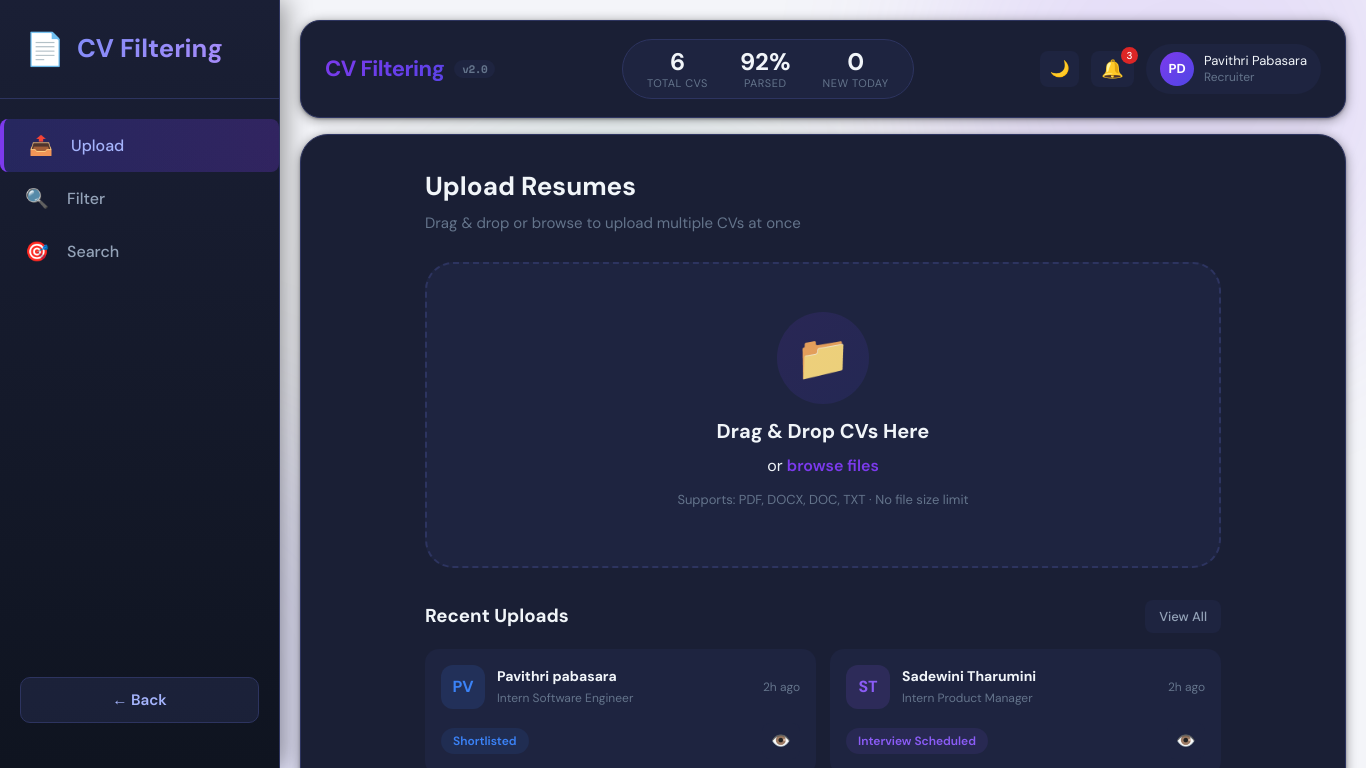
Scenario: CVFiltering › shows search suggestions and allows selecting one
Click the button "🎯 Search" at (93, 252), box [0, 225, 279, 278]
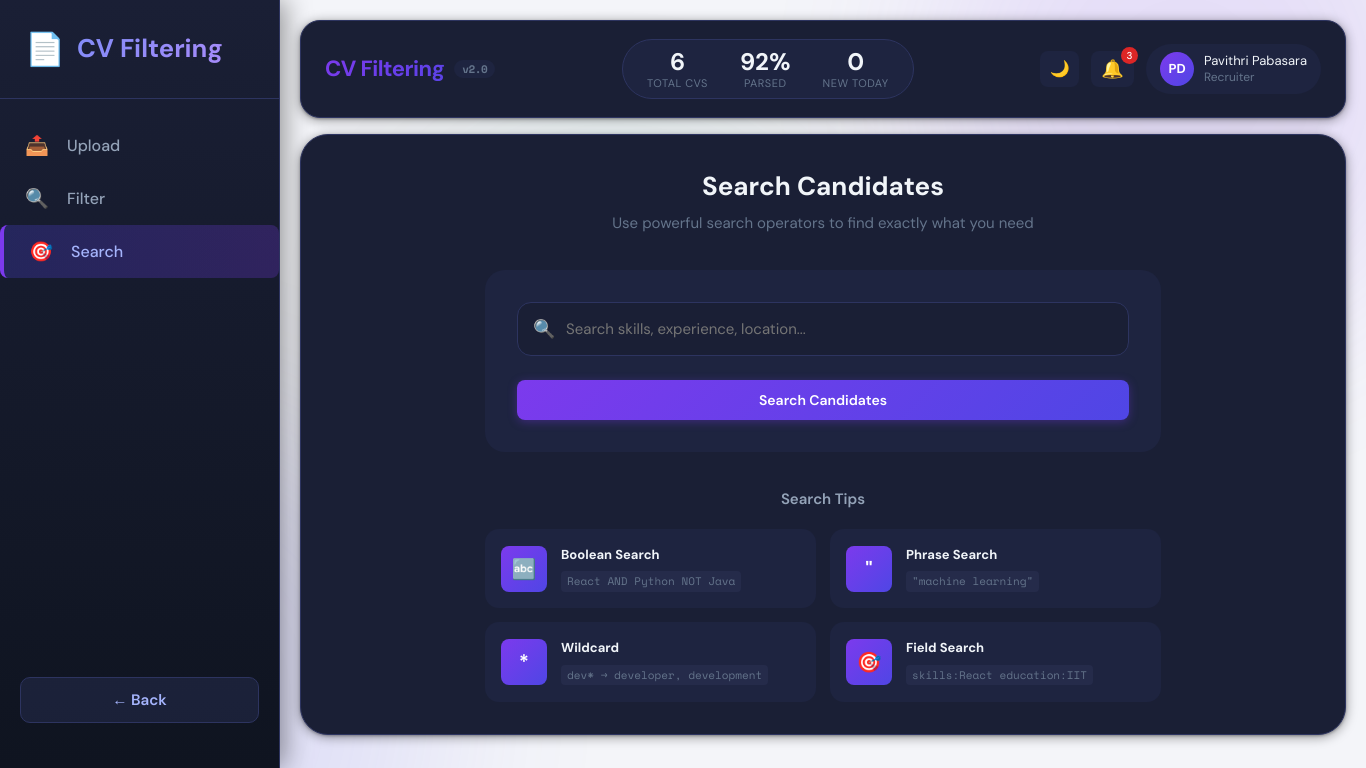
Type "Re" into the field with placeholder "Search skills, experience, location..." at (823, 330), box [517, 302, 1129, 356]
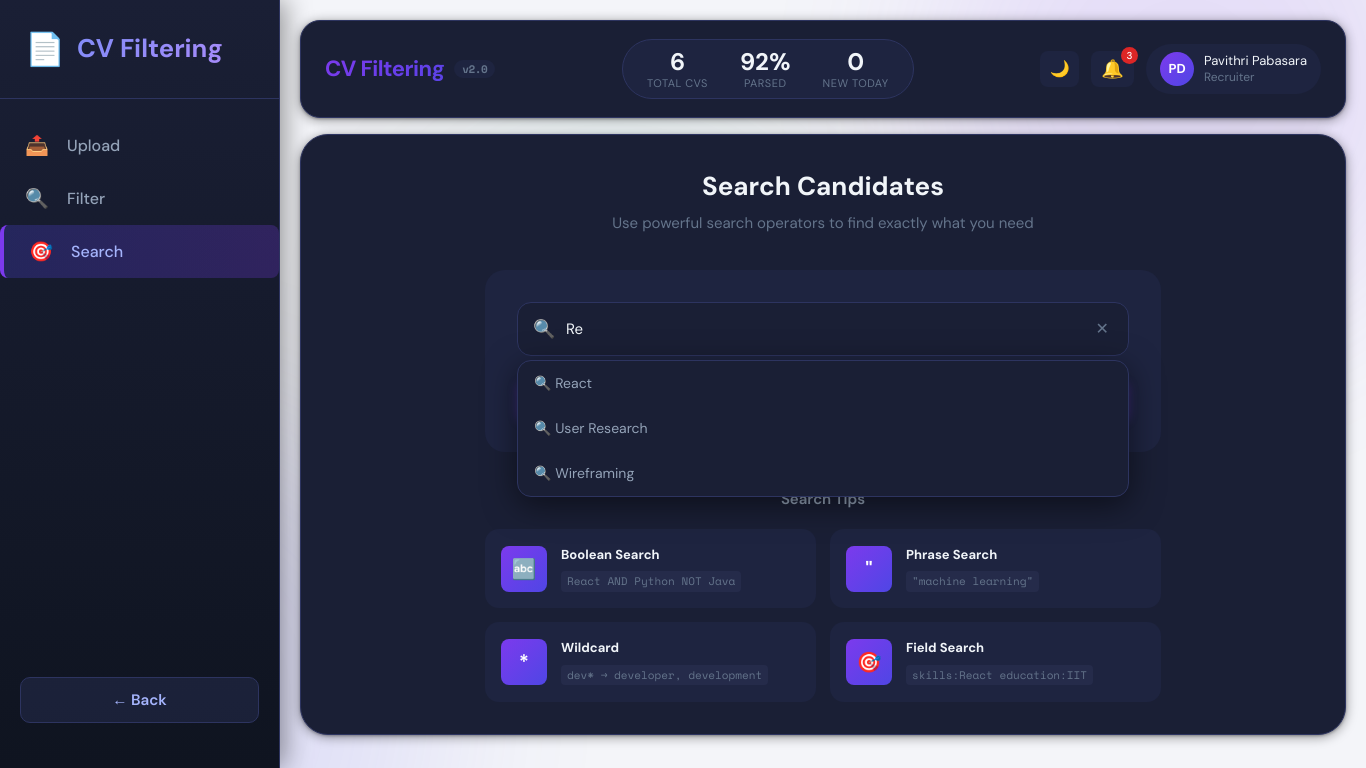
Click the text "🔍 React" at (563, 384), box [534, 374, 592, 392]
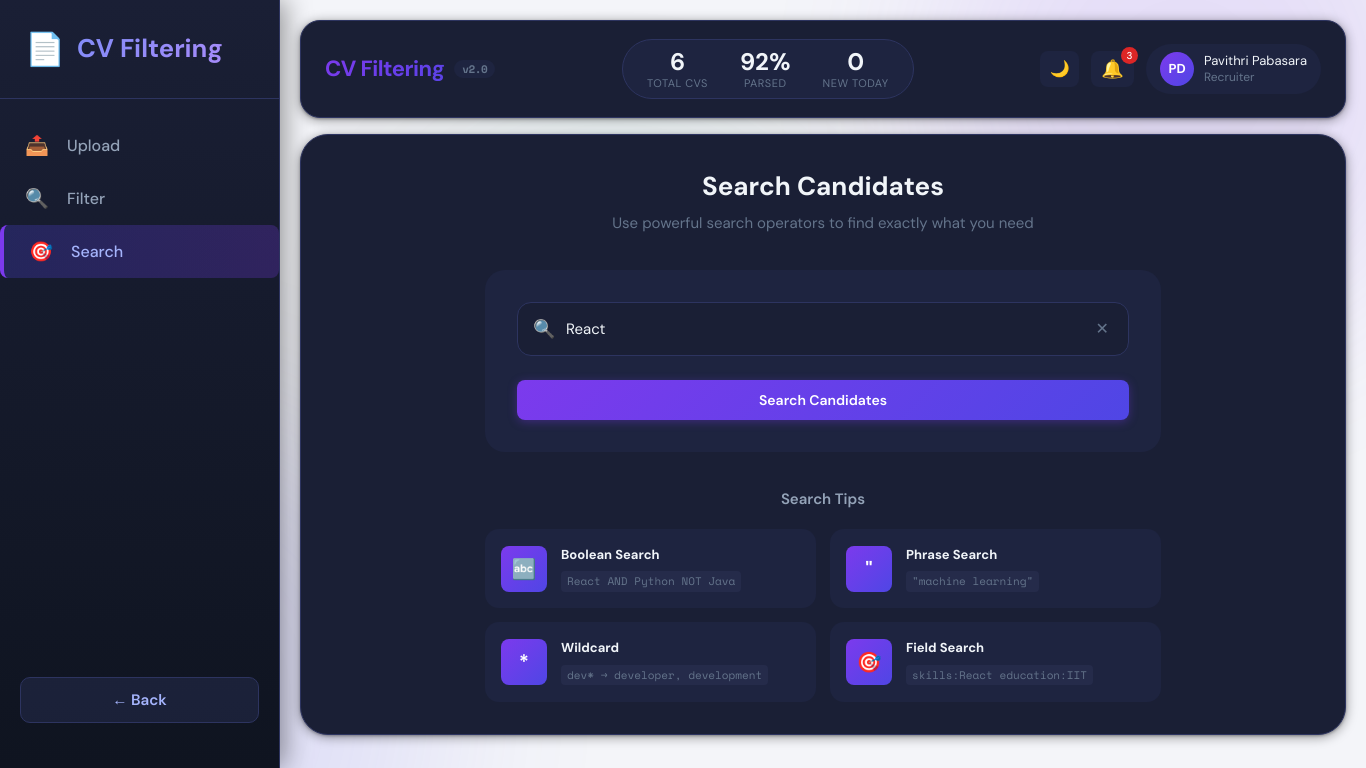
Result: the text "Boolean Search" is shown at [561, 546, 660, 563]
Result: the field with placeholder "Search skills, experience, location..." holds "React" at [517, 302, 1129, 356]
